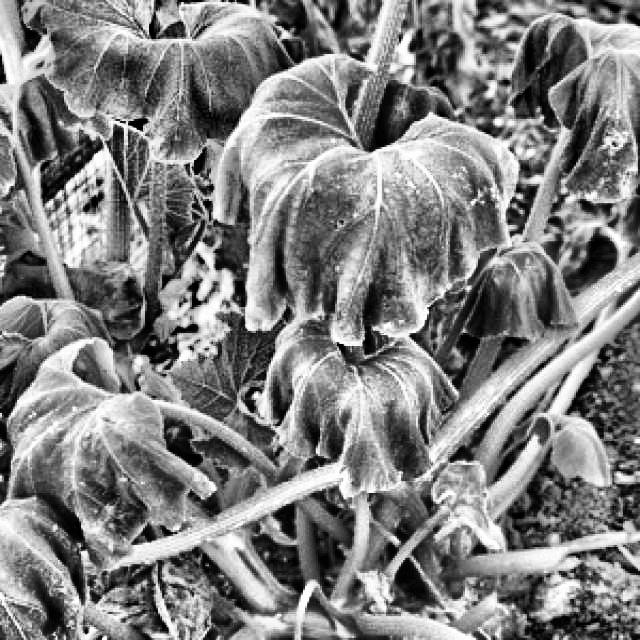plants: (0, 0, 638, 638), (244, 69, 516, 347), (0, 298, 188, 638), (266, 360, 477, 510), (520, 13, 638, 223)
